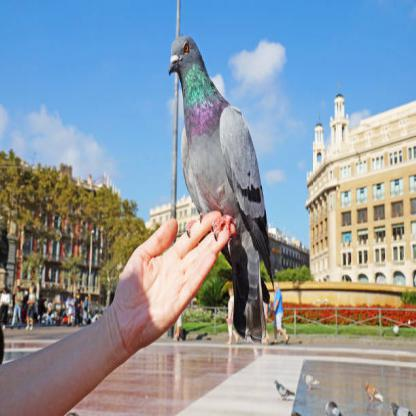Flying Rat: (162, 37, 284, 260)
